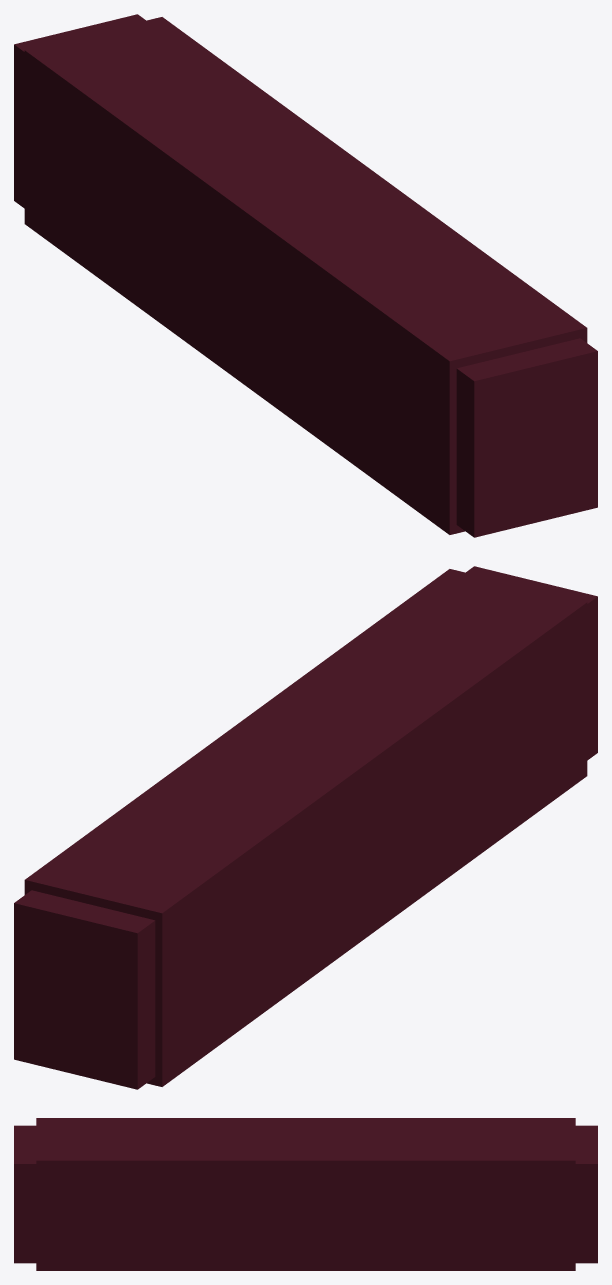
File: H2000_COL_0.glb
3 views of the same model, one above another, from view 1: azimuth 30°, elevation 25°; view 2: azimuth 150°, elevation 25°; view 3: azimuth 270°, elevation 25° (orthographic). The views are drawn at different scales.
Visible parts, largest first — view 1: COL_R1, COL_R0, COL_R2, COL_TOP, COL_L1, COL_L0, COL_L2, COL_LAST; view 2: COL_R1, COL_R2, COL_R0, COL_LAST, COL_L1, COL_L2, COL_L0, COL_TOP; view 3: COL_L1, COL_L0, COL_L2, COL_R1, COL_R0, COL_R2, COL_TOP, COL_LAST.
Part boxes in pixels (bbox=[...]): COL_R1: bbox=[141, 119, 401, 449]; COL_R0: bbox=[333, 259, 518, 534]; COL_R2: bbox=[24, 33, 209, 308]; COL_TOP: bbox=[456, 338, 597, 537]; COL_L1: bbox=[210, 102, 470, 258]; COL_L0: bbox=[402, 242, 587, 353]; COL_L2: bbox=[94, 17, 277, 118]; COL_LAST: bbox=[14, 14, 145, 208]; COL_R1: bbox=[210, 671, 470, 1001]; COL_R2: bbox=[93, 811, 278, 1086]; COL_R0: bbox=[402, 585, 587, 860]; COL_LAST: bbox=[14, 890, 155, 1089]; COL_L1: bbox=[141, 654, 401, 810]; COL_L2: bbox=[24, 794, 209, 905]; COL_L0: bbox=[334, 569, 517, 670]; COL_TOP: bbox=[466, 566, 597, 760]; COL_L1: bbox=[184, 1139, 427, 1270]; COL_L0: bbox=[36, 1139, 184, 1270]; COL_L2: bbox=[427, 1139, 575, 1270]; COL_R1: bbox=[184, 1118, 427, 1139]; COL_R0: bbox=[36, 1118, 184, 1139]; COL_R2: bbox=[427, 1118, 575, 1139]; COL_TOP: bbox=[14, 1125, 36, 1263]; COL_LAST: bbox=[575, 1125, 597, 1263].
Bounding box in the file's own units: 6.62 × 8 × 38.39.
8 materials, 8 textured.
